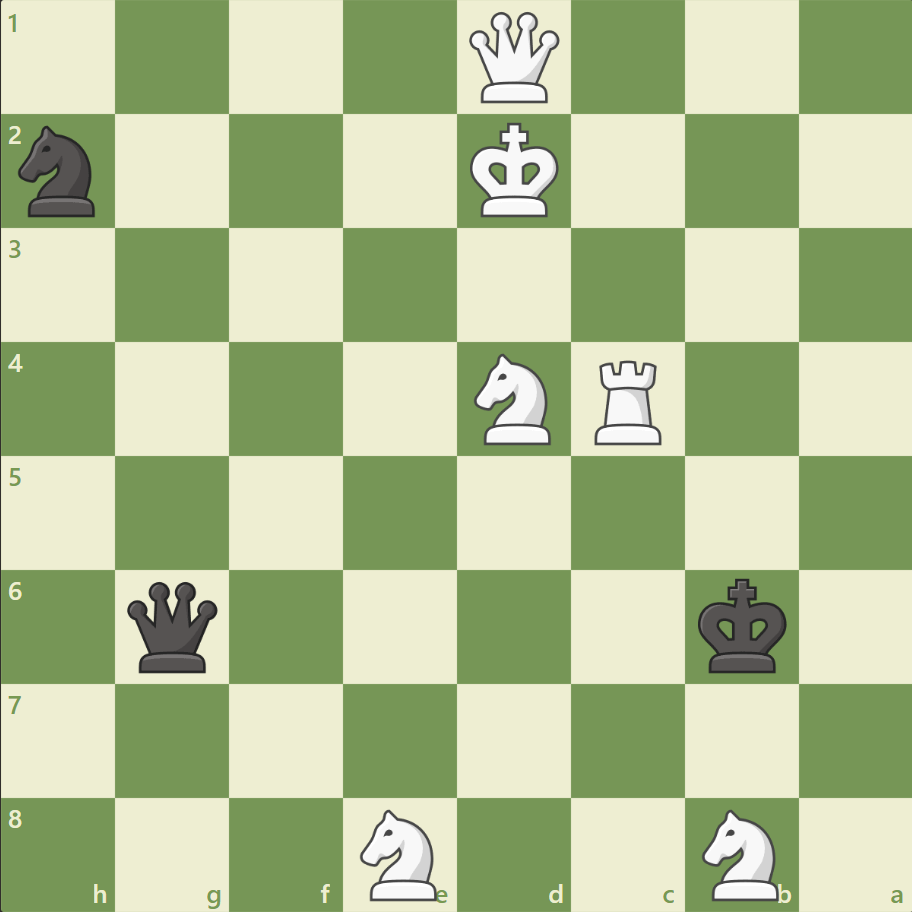K: (465, 117, 565, 225)
N: (351, 802, 449, 904), (692, 802, 789, 904), (465, 348, 562, 450)
Q: (464, 9, 563, 108)
R: (587, 352, 670, 449)
k: (692, 571, 792, 679)
n: (11, 121, 108, 223)
q: (124, 576, 223, 676)
